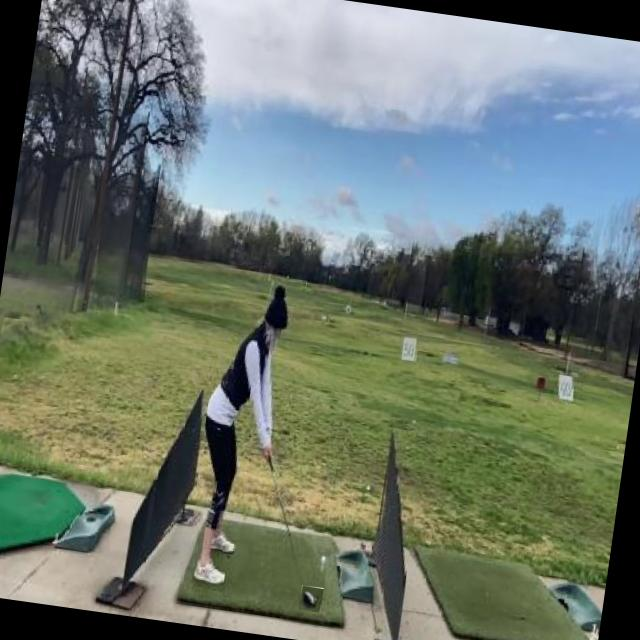club head: (298, 585, 324, 613)
